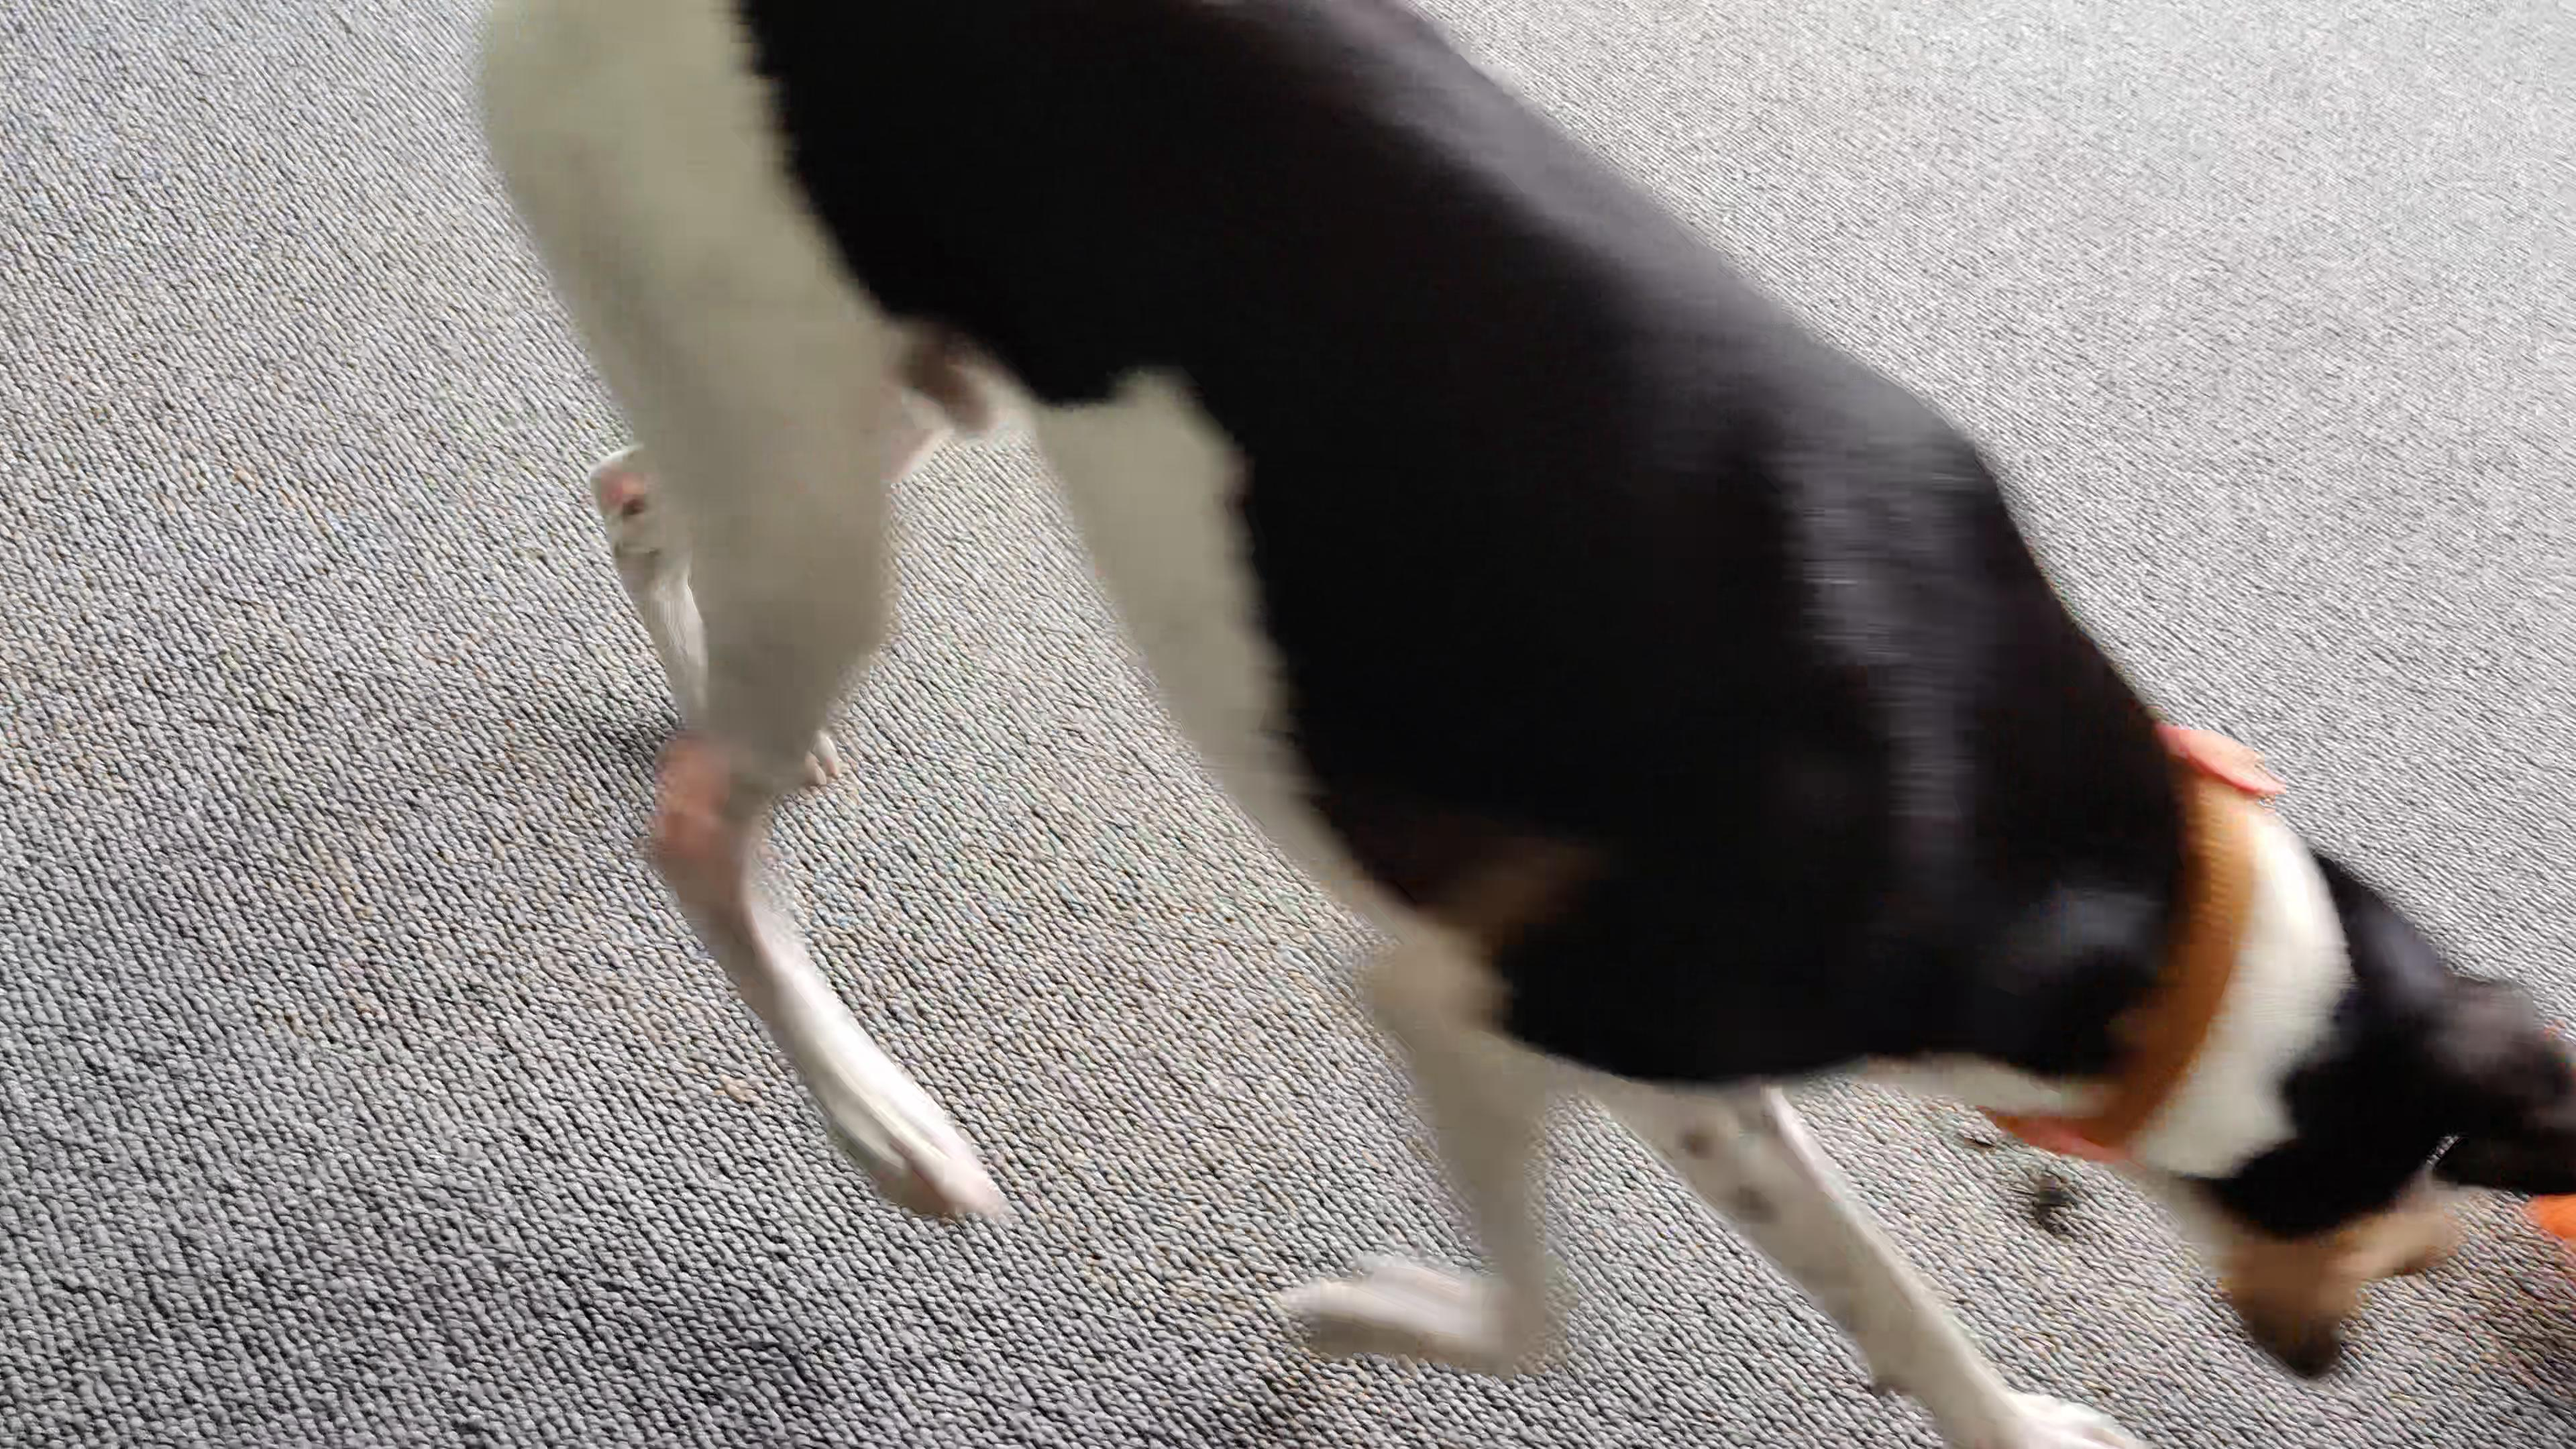Dog: (444, 0, 2576, 1449)
